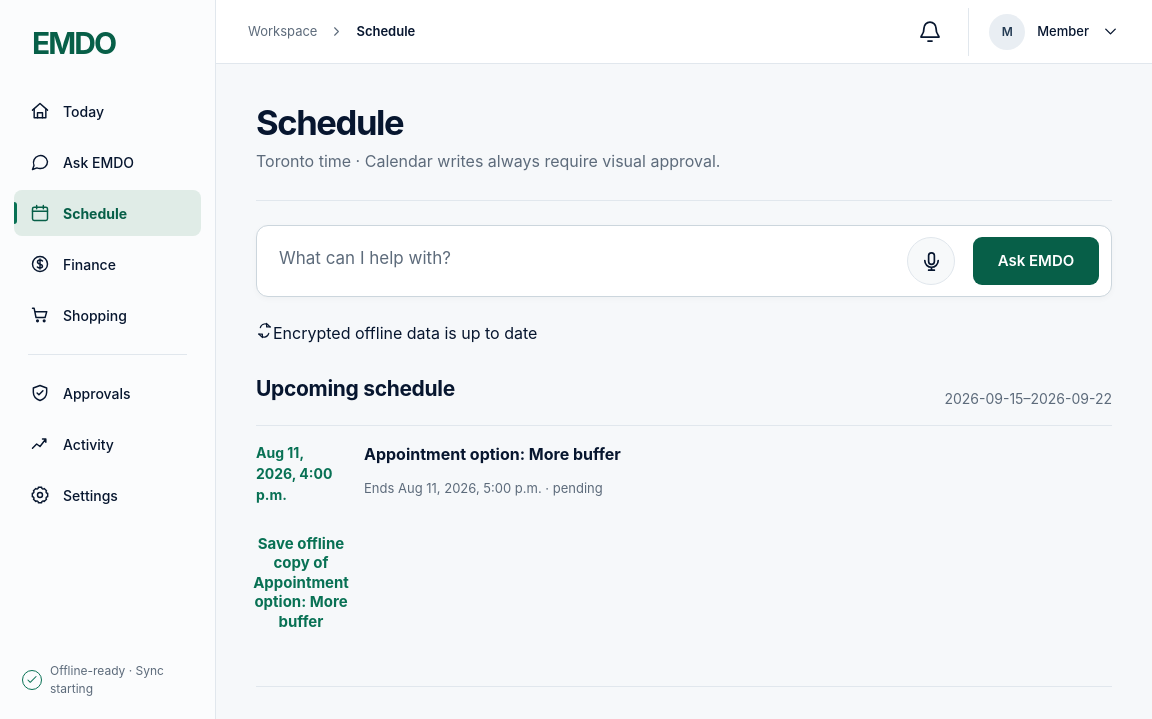
Scenario: domain route to encrypted queue integration › saves a scheduler alternative locally without requesting a Calendar write
This screenshot has width=1152, height=719.
Check: the text "Encrypted offline data is up to date" is shown, box [273,323,537,343]
Click the button "Save offline copy of Appointment option: More buffer".
click(301, 582)  # box [256,523,346,642]
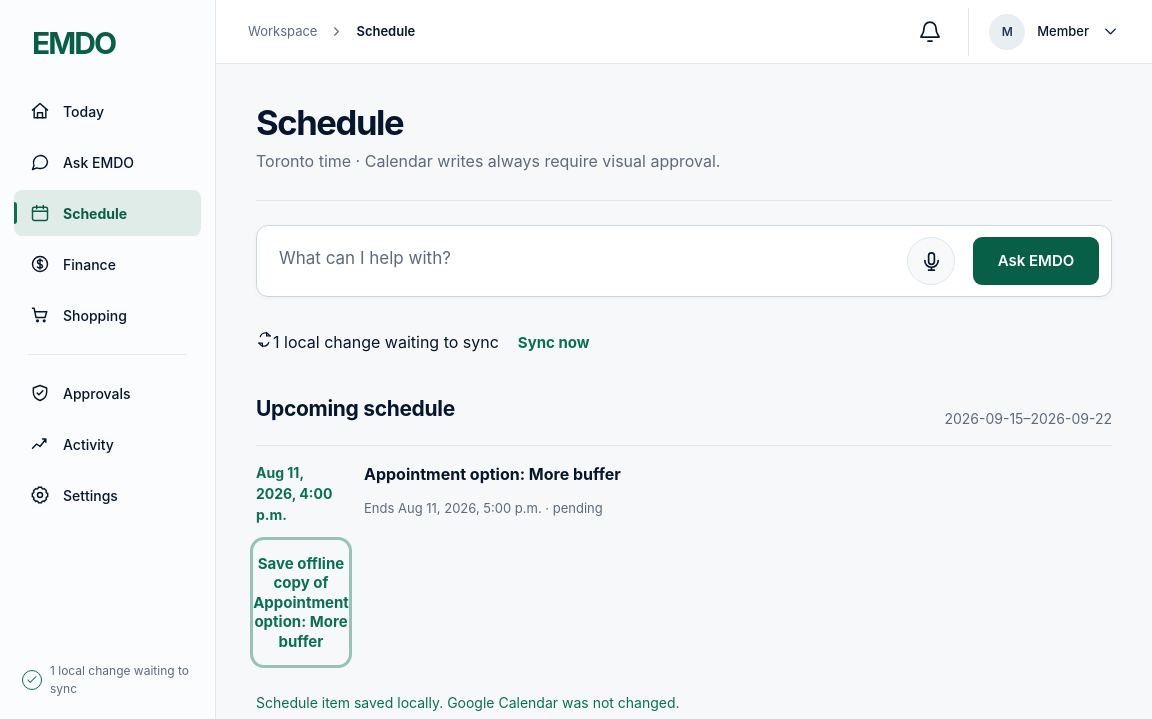
Check: the text "Schedule item saved locally. Google Calendar was not changed." is shown, box [256,694,680,711]
Check: the text "1 local change waiting to sync" below "Settings" is shown, box [50,663,189,696]
